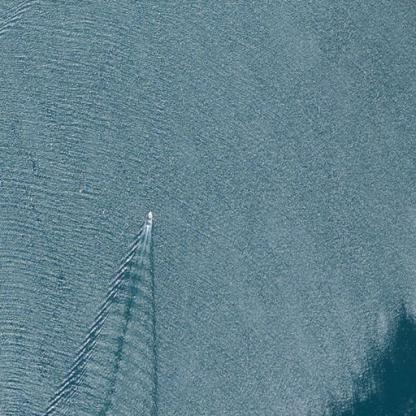ship: (142, 209, 154, 231)
